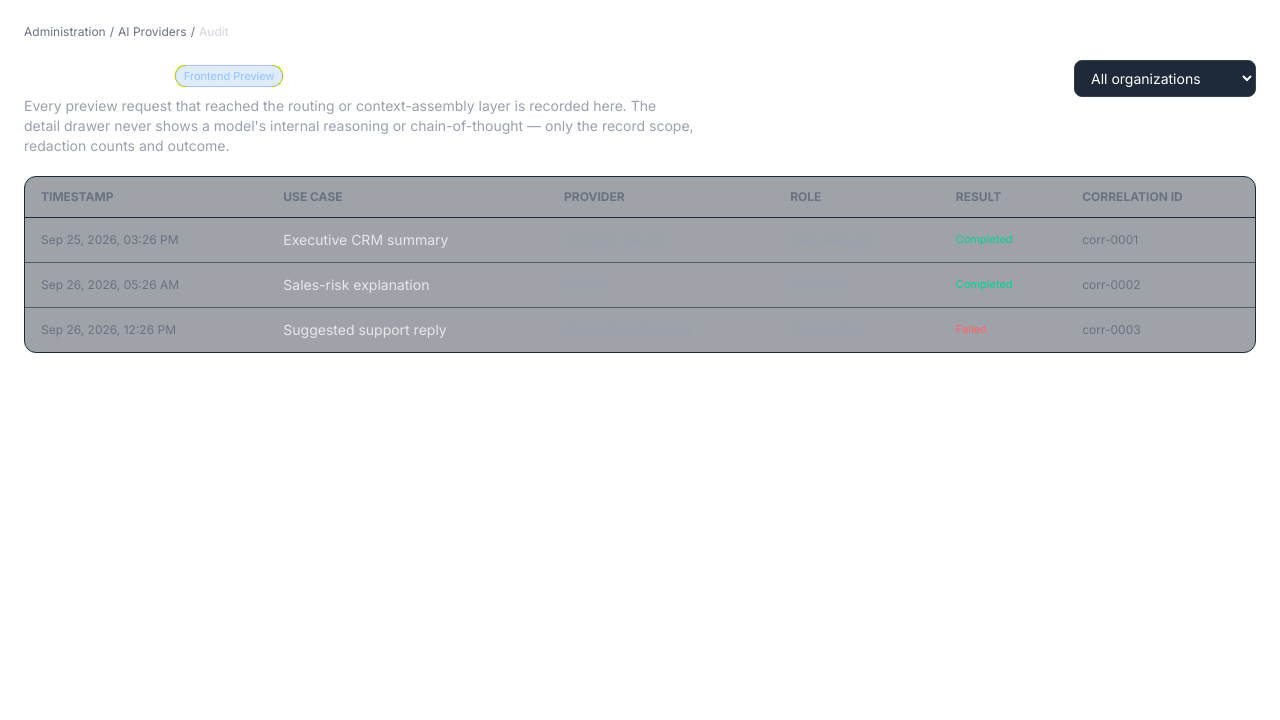
Test: AiAuditLog › clicking a row opens the detail drawer without a chain-of-thought field
Click the row that starts with "Sep 25, 2026, 03:26 PM": x=640, y=240 [25, 218, 1255, 262]
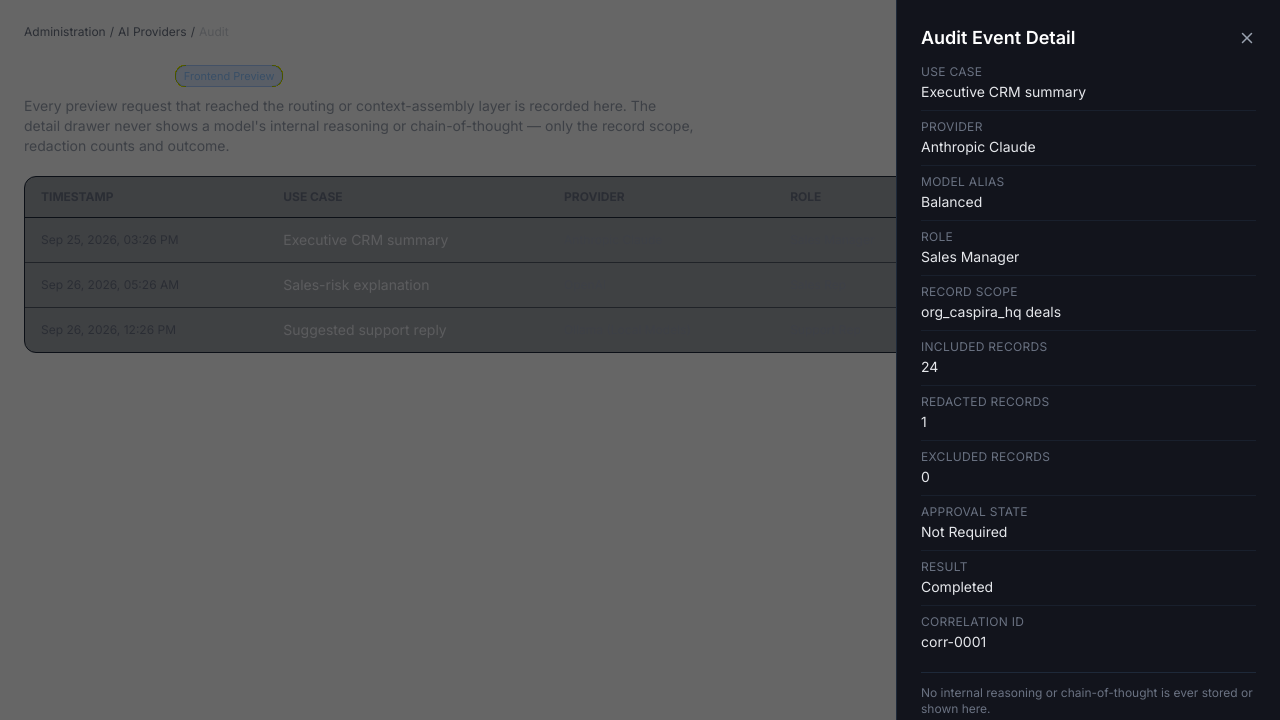
Result: the dialog shows "Audit Event Detail" at [921, 27, 1076, 48]
Result: the dialog shows "No internal reasoning or chain-of-thought" at [921, 685, 1253, 716]
